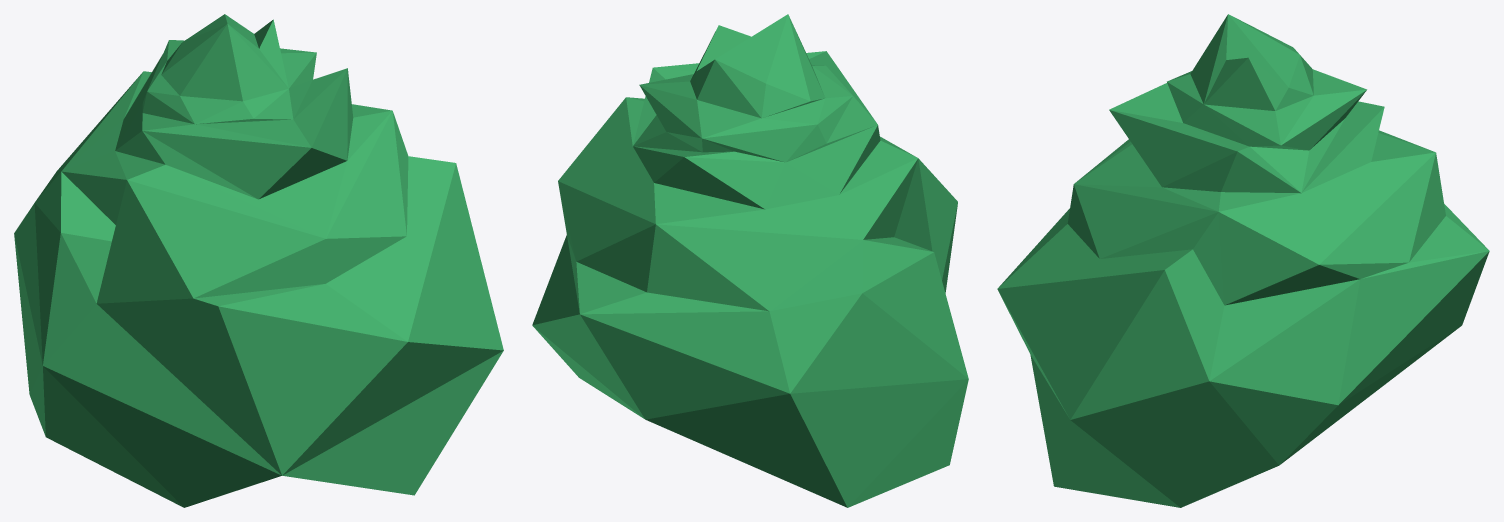
The model's file is bush3.fbx.
3 renders of one model, left to right at view 1: azimuth 30°, elevation 25°; view 2: azimuth 150°, elevation 25°; view 3: azimuth 270°, elevation 25°, orthographic. The views are drawn at different scales.
Visible parts, largest first — view 1: bush3; view 2: bush3; view 3: bush3.
Boxes of the visible parts, bbox=[...] form: bush3: bbox=[14, 14, 503, 507]; bush3: bbox=[532, 14, 968, 507]; bush3: bbox=[997, 14, 1489, 507].
Bounding box in the file's own units: 92.42 × 96.42 × 101.
